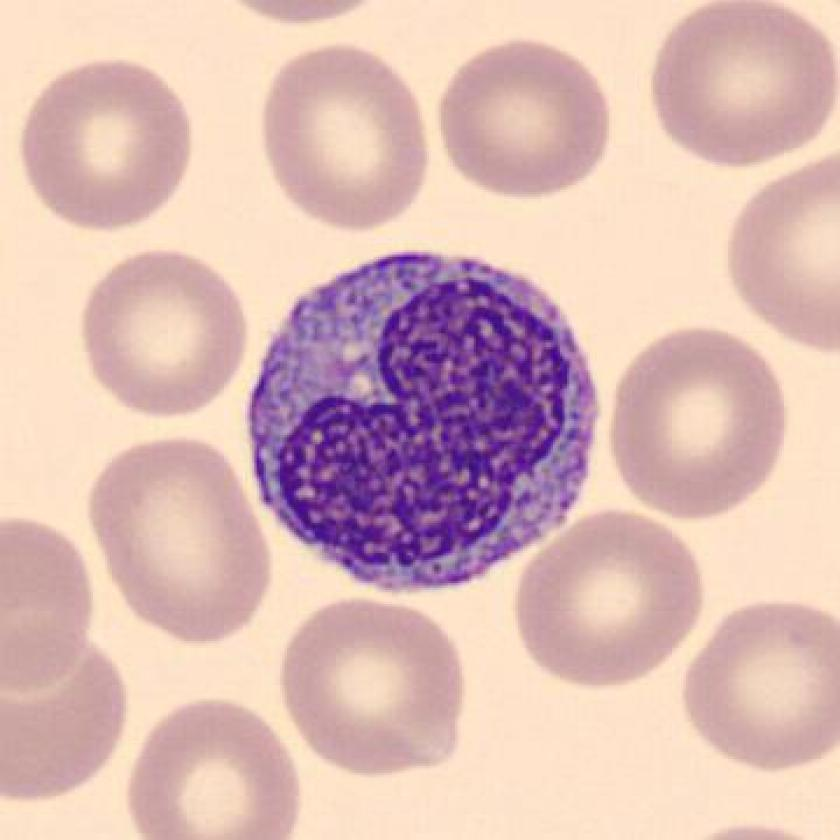monocyte: (225, 225, 615, 619)
